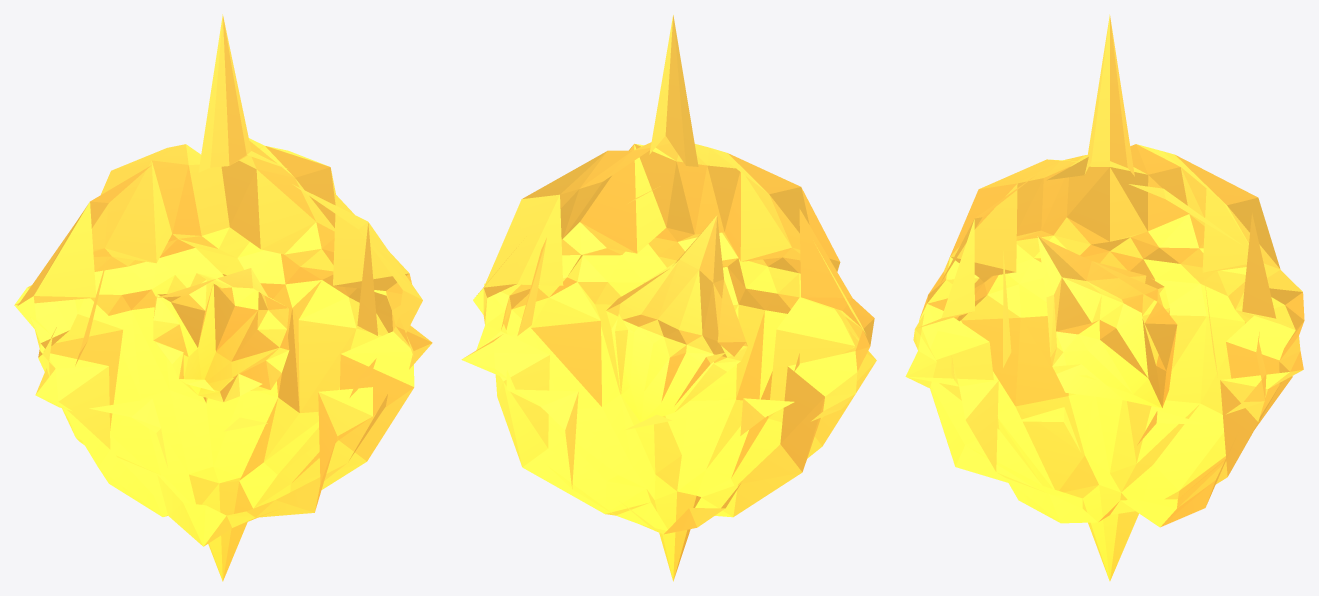
The model's file is forge.glb.
3 views of the same model, side by side, from view 1: azimuth 30°, elevation 25°; view 2: azimuth 150°, elevation 25°; view 3: azimuth 270°, elevation 25° (orthographic).
Visible parts, largest first — view 1: outer_forge, inner_forge; view 2: outer_forge, inner_forge; view 3: outer_forge, inner_forge.
Boxes of the visible parts, x1,y1,x2,y2 form: outer_forge: (14, 14, 432, 581); inner_forge: (153, 268, 289, 402); outer_forge: (461, 15, 876, 581); inner_forge: (606, 215, 747, 422); outer_forge: (905, 14, 1304, 581); inner_forge: (1037, 236, 1177, 408).
Size of the model in its own units: 5.88 by 8.95 by 5.7.
